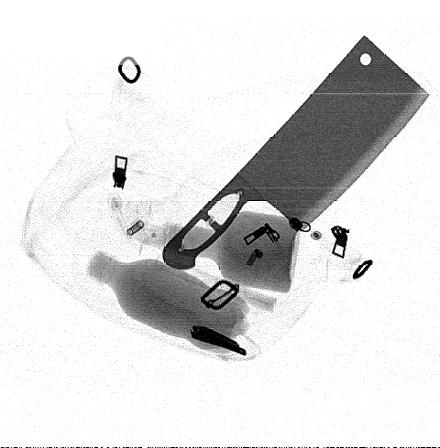Knife: (162, 33, 431, 271)
